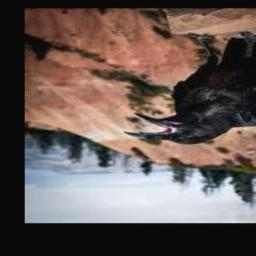Crow: (125, 39, 256, 145)
